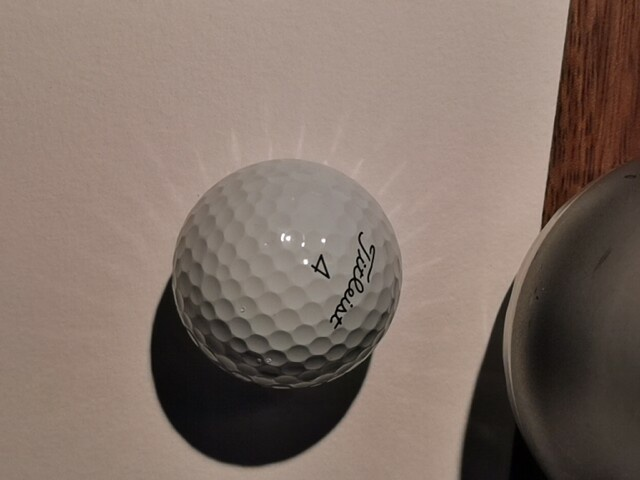Ball: (172, 159, 403, 390)
Titleist: (329, 231, 376, 330)
